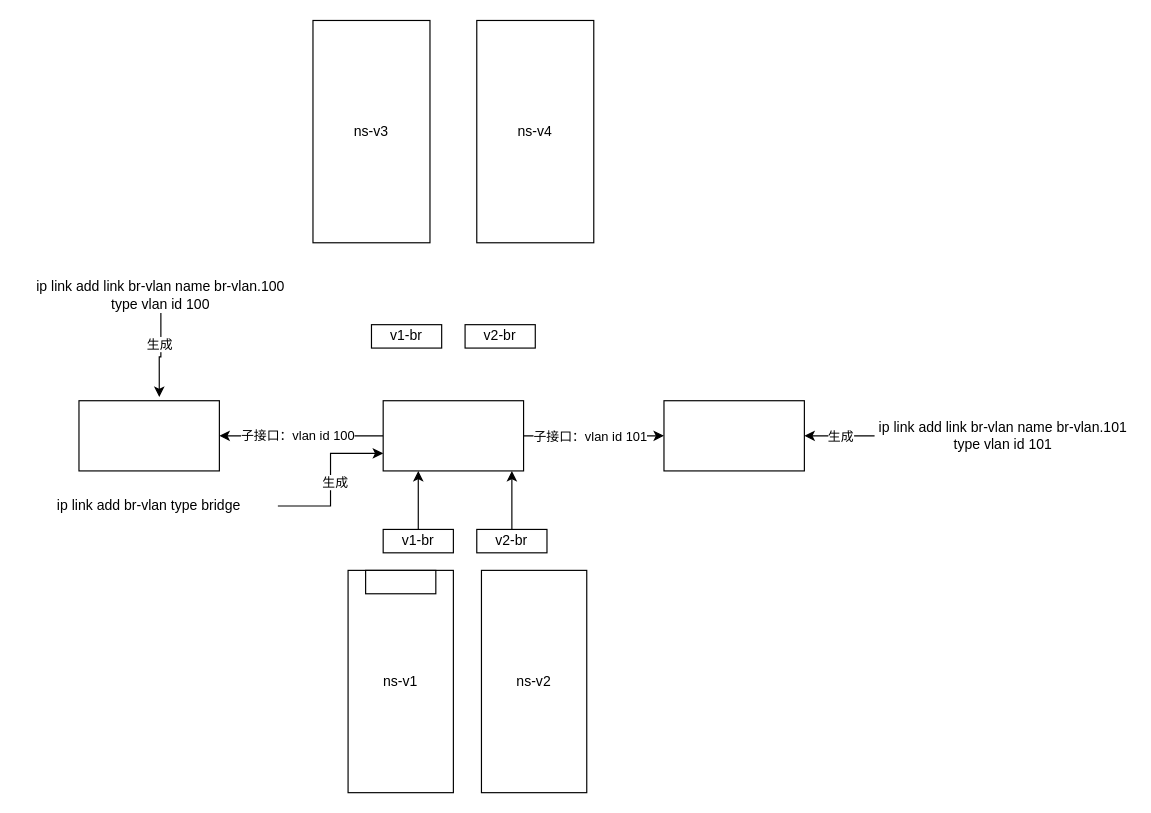
Image size: 1151x813. Some labels were removed from this diagram. Each missing label, with the centre of its shape:
"br-vlan" belongs at (453,435).
"br-vlan.100" belongs at (148,435).
"br-vlan.101" belongs at (733,435).
"v1" belongs at (400,581).
